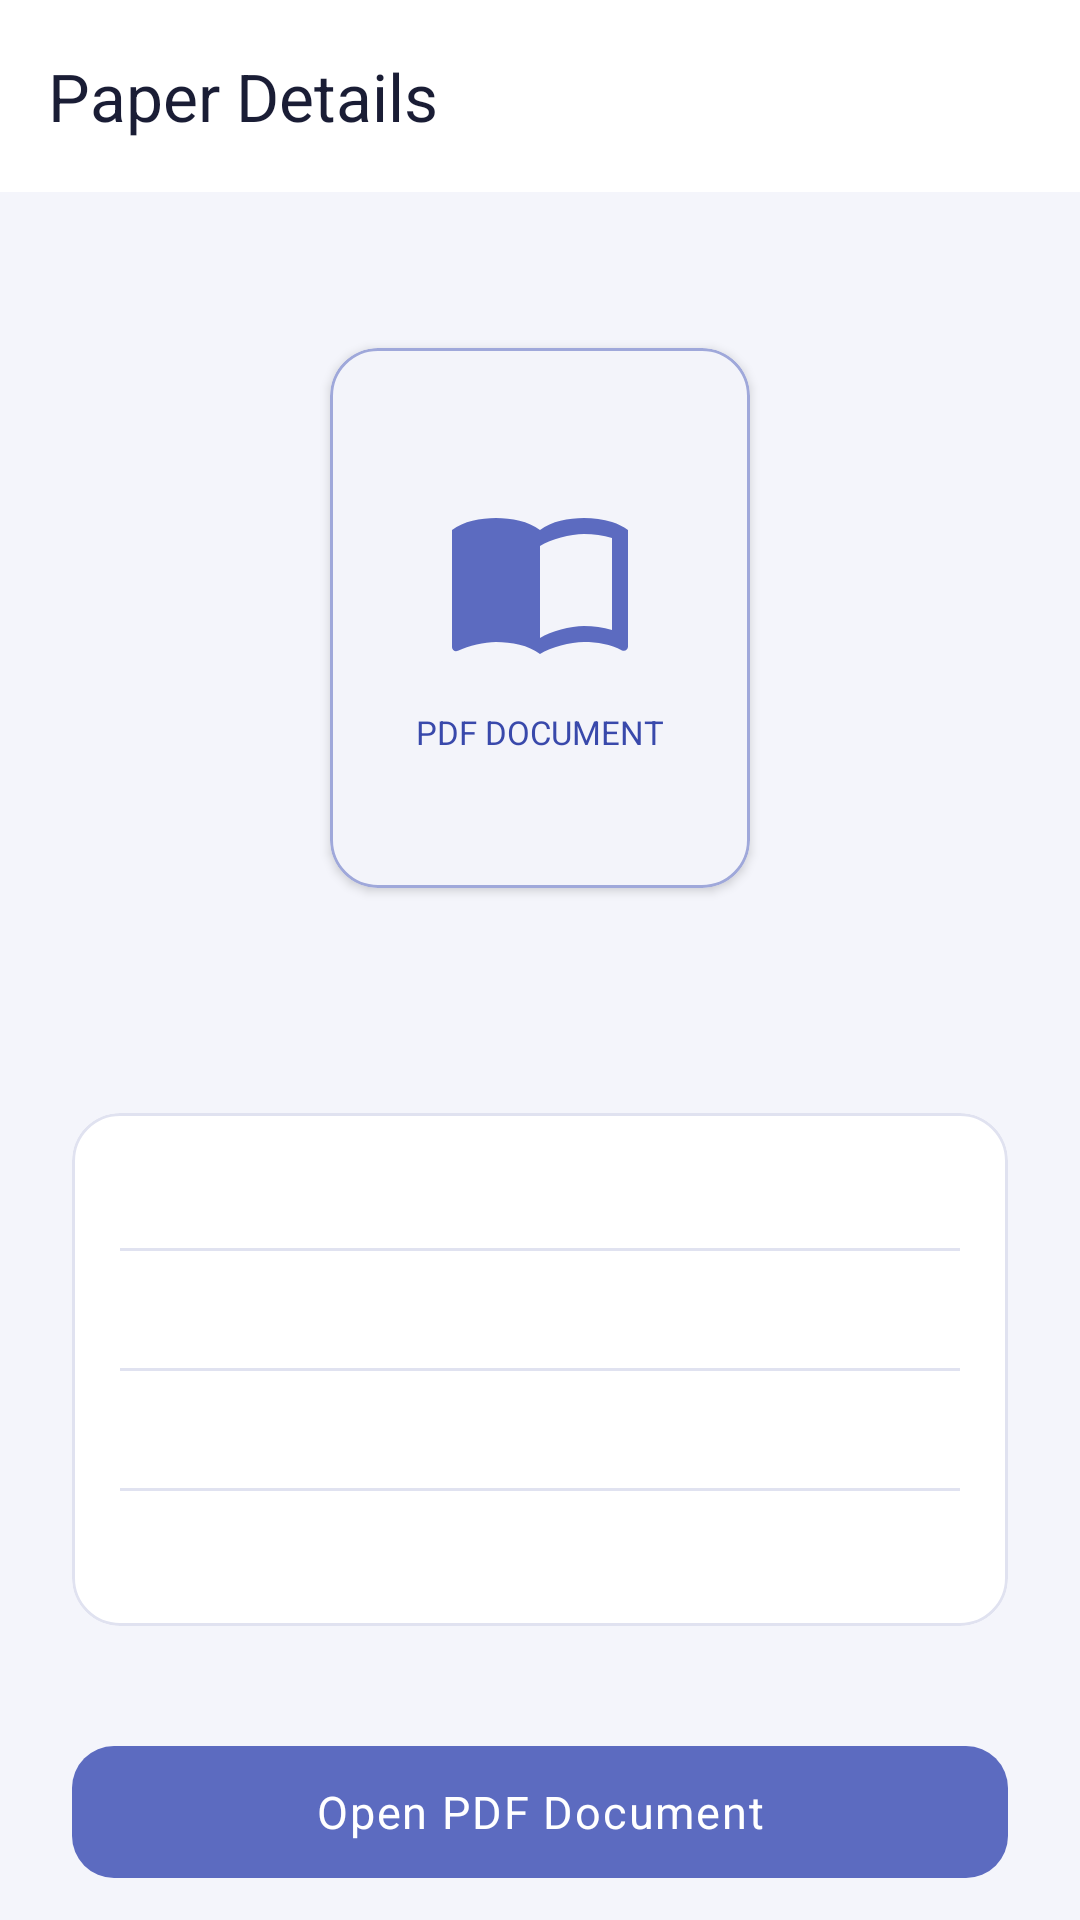

Screen size 1080w x 1920h. Icon name, then its center in pixels as point (x, y):
book: point (540, 586)
